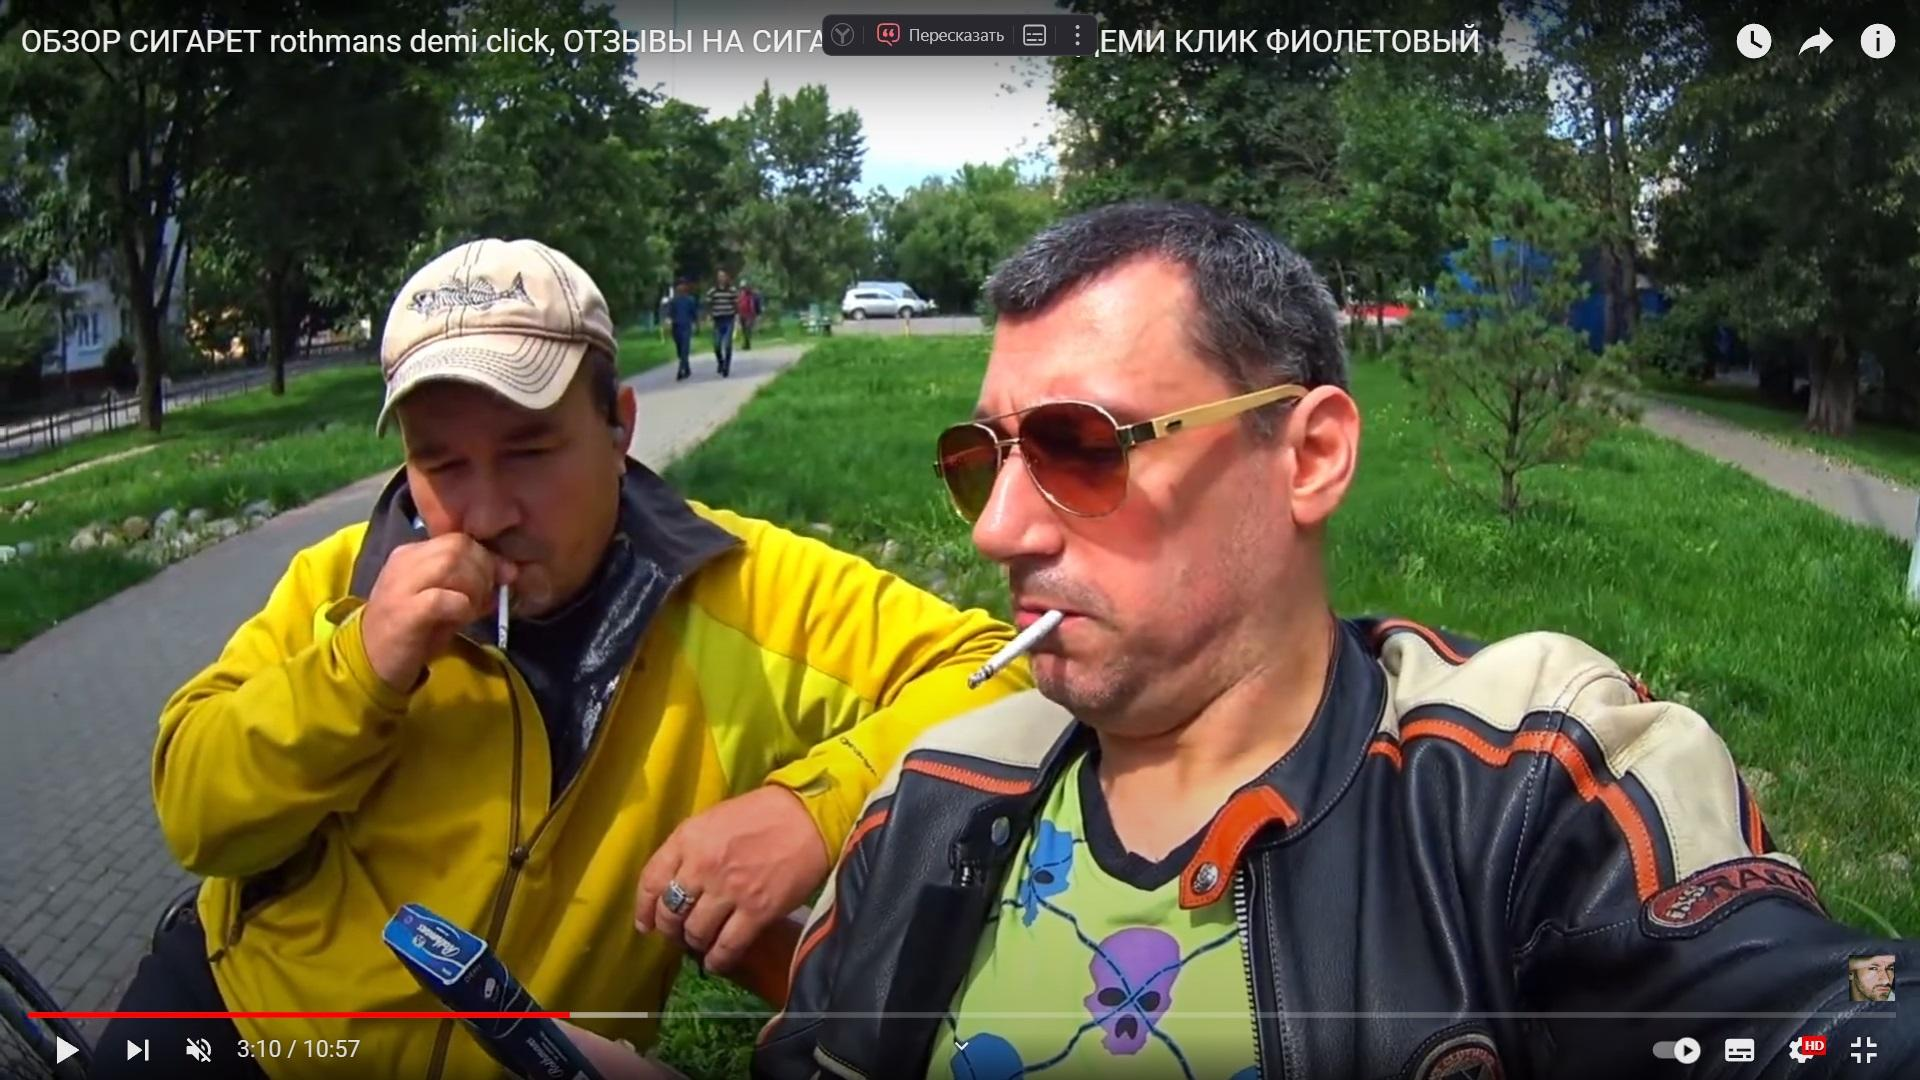cigarette: (967, 608, 1064, 691), (498, 584, 509, 650)
